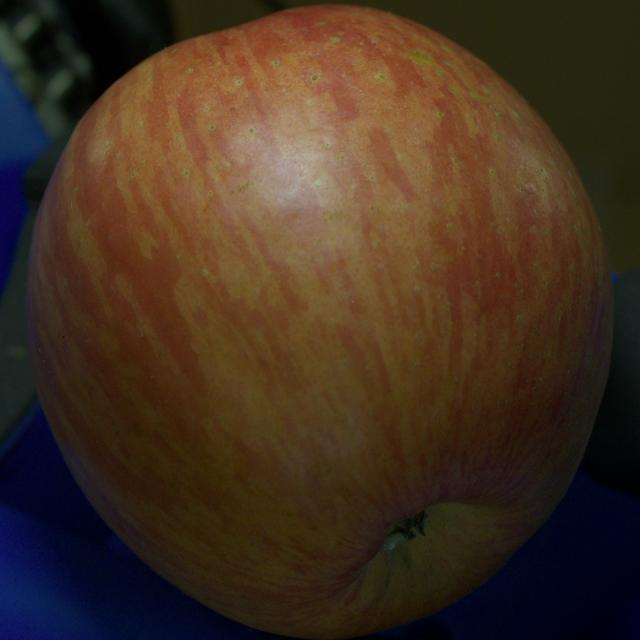apple: (26, 6, 613, 638)
